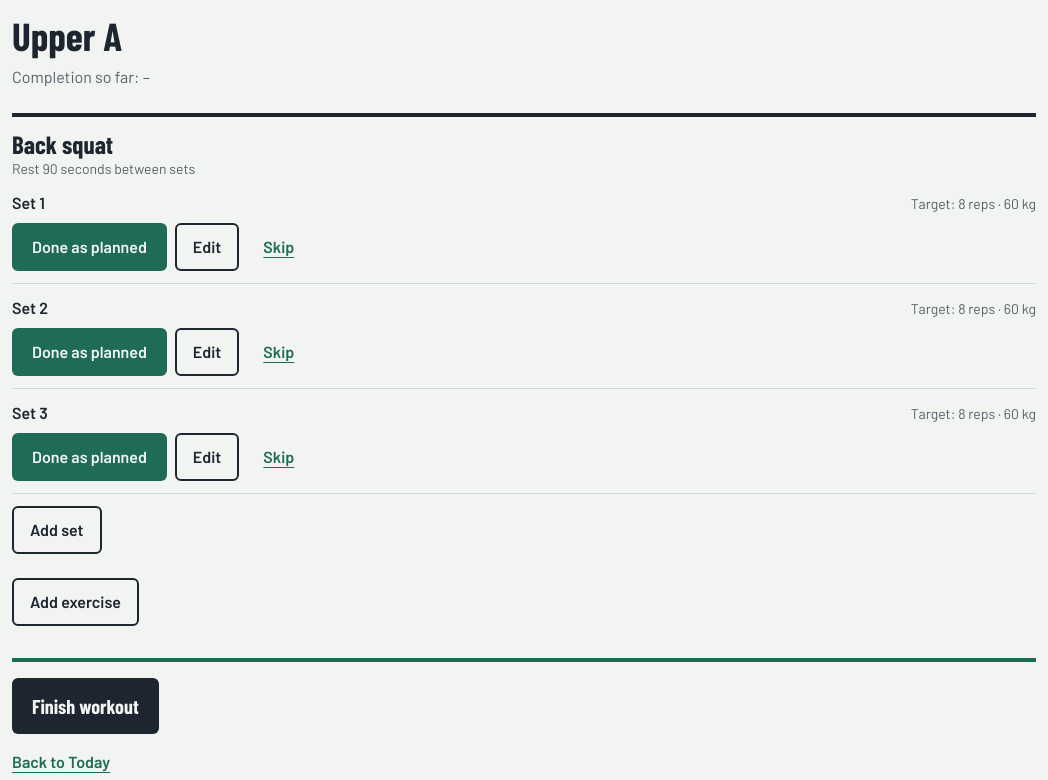
Test: editing sets › shows the server's reason when a set is refused
This screenshot has width=1048, height=780.
Click the button "Done as planned" below "Set 1" at (89, 247), box [12,223,167,271]
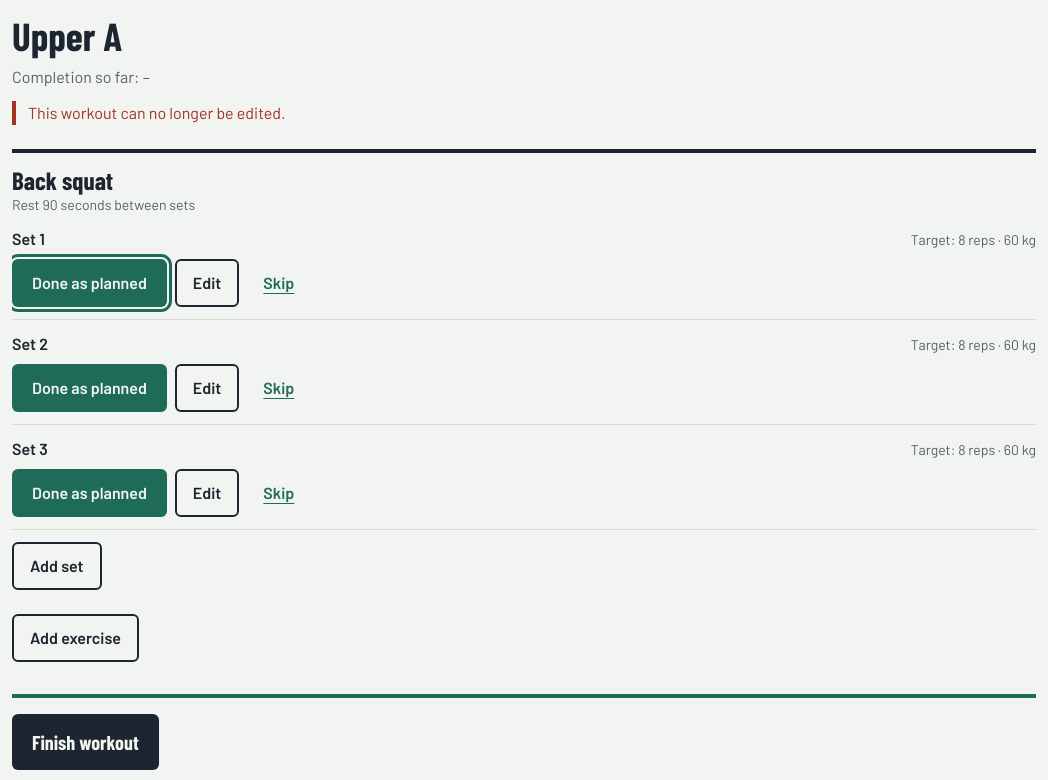
Now the message reads "This workout can no longer be edited.", box [28,103,285,122]
